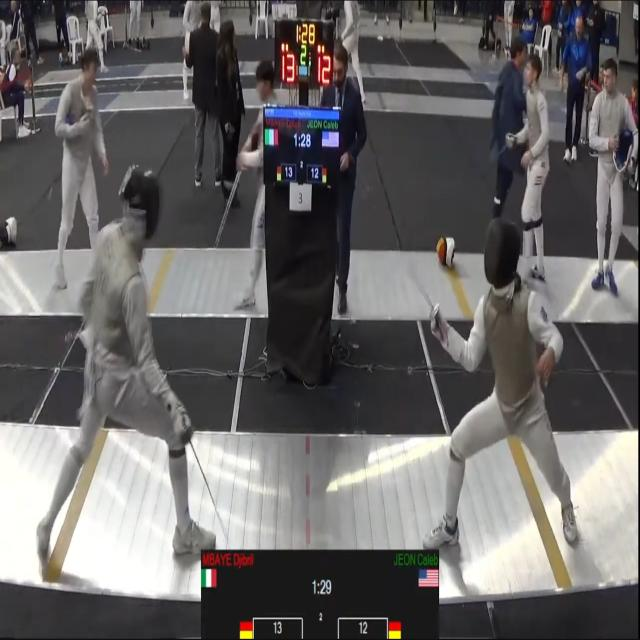fencer: (417, 222, 591, 553), (62, 180, 201, 584)
overlayLeft: (201, 549, 310, 610)
overlayRight: (333, 553, 439, 613)
scoreLeft: (256, 619, 303, 640)
scoreRight: (338, 620, 387, 640)
